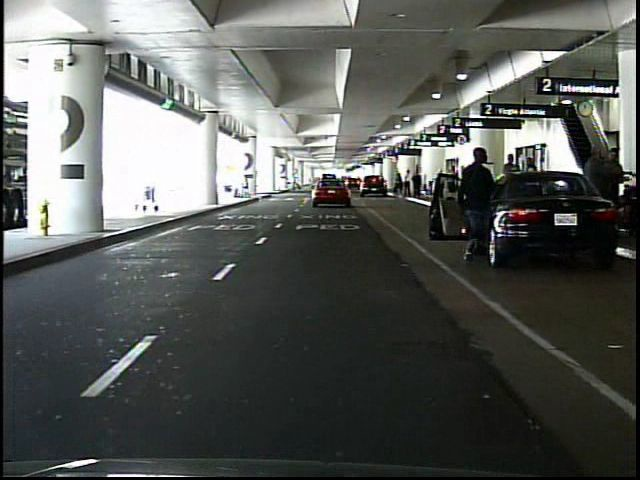person: (462, 147, 496, 270), (590, 146, 625, 239), (579, 142, 611, 229), (501, 152, 524, 216), (522, 156, 541, 216), (403, 169, 414, 199), (413, 170, 423, 200), (396, 173, 405, 197), (291, 175, 300, 192)
